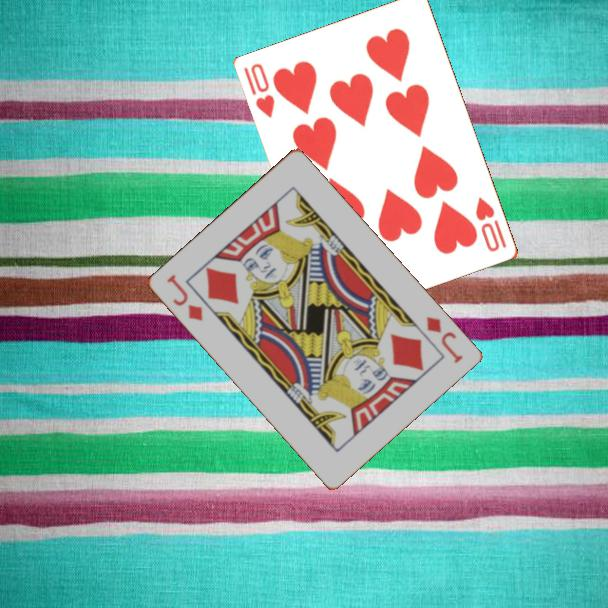d11: (422, 313, 465, 366), (163, 271, 205, 324)
h10: (472, 193, 510, 255), (240, 60, 278, 121)
